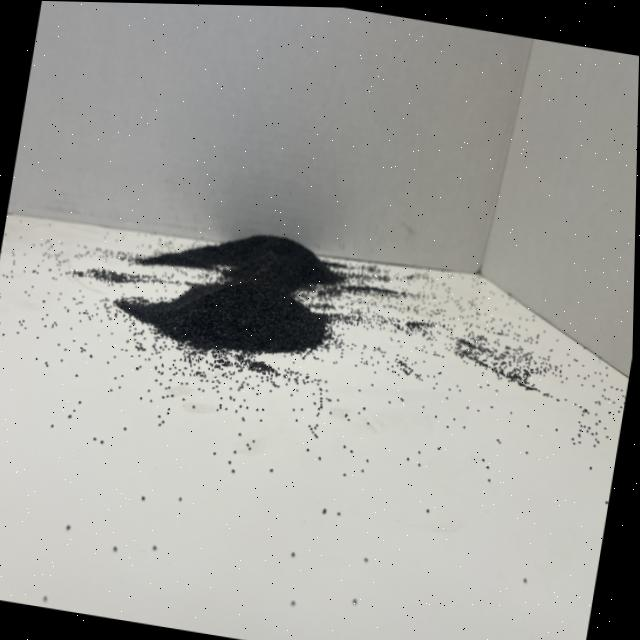Poppy Seeds: (112, 193, 366, 397)
